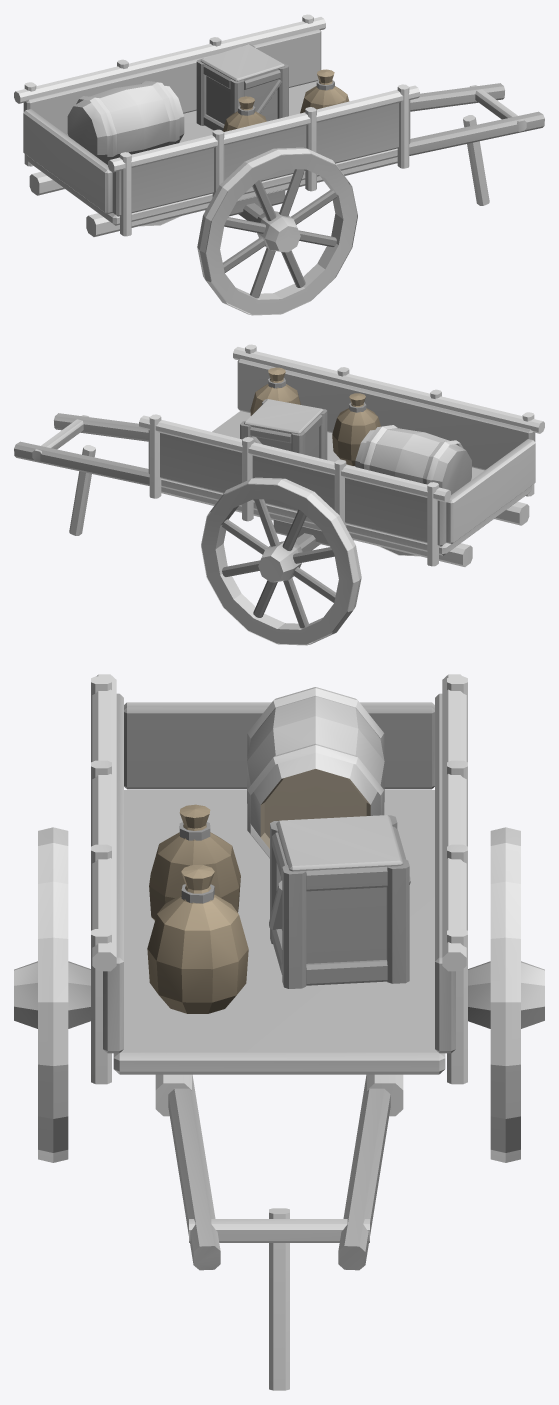
Rendered from cart.glb.
3 views of the same model, one above another, from view 1: azimuth 30°, elevation 25°; view 2: azimuth 150°, elevation 25°; view 3: azimuth 270°, elevation 25° (orthographic). The views are drawn at different scales.
Parts seen in each view (by area): view 1: axle; view 2: axle; view 3: axle.
Part boxes in pixels (bbox=[...]): axle: bbox=[14, 14, 544, 315]; axle: bbox=[14, 344, 544, 645]; axle: bbox=[14, 674, 544, 1390].
Bounding box in the file's own units: 3.28 × 1.31 × 1.76.
